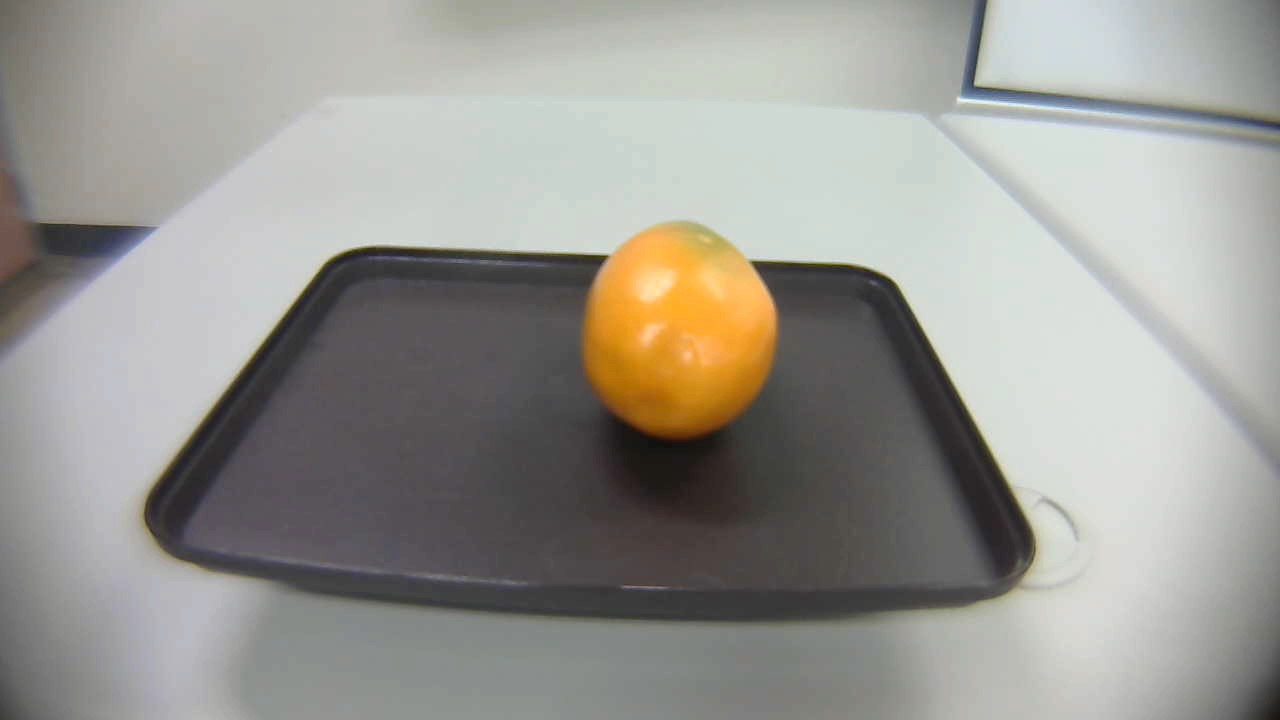papya: (572, 216, 786, 442)
